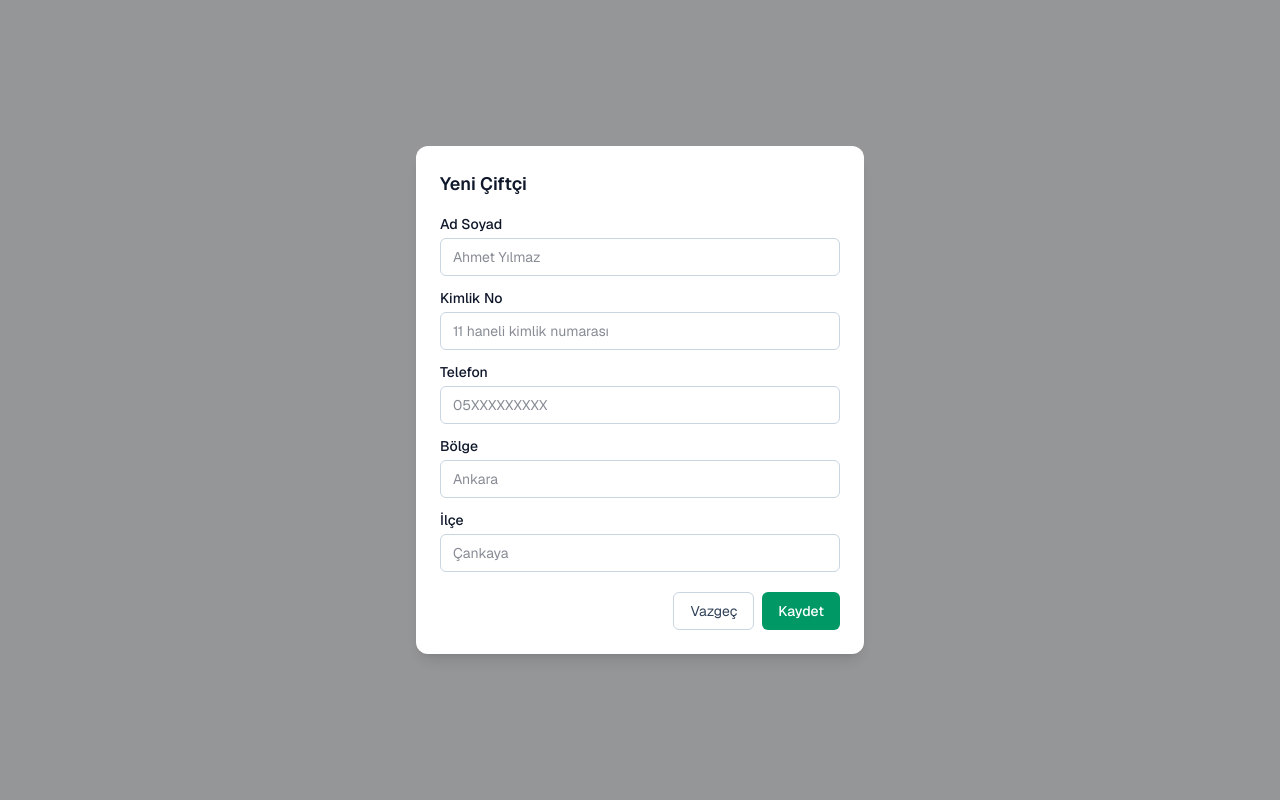
Test: FarmerFormModal › gecersiz telefon icin hata mesaji gosterir
This screenshot has width=1280, height=800.
Type "123" into the field labelled "Telefon" at coordinates (640, 405), box [440, 386, 840, 424]
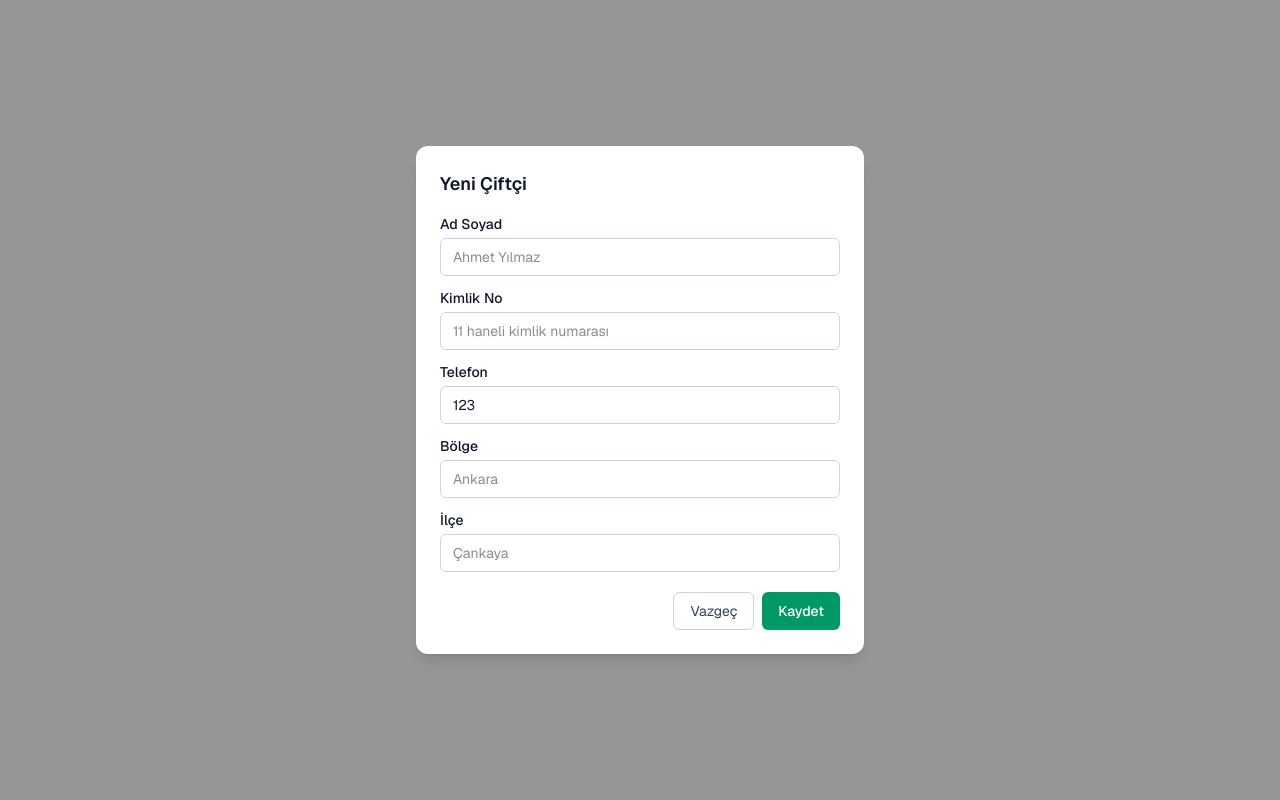
Click the button "Kaydet" at coordinates (801, 611), box [762, 592, 840, 630]
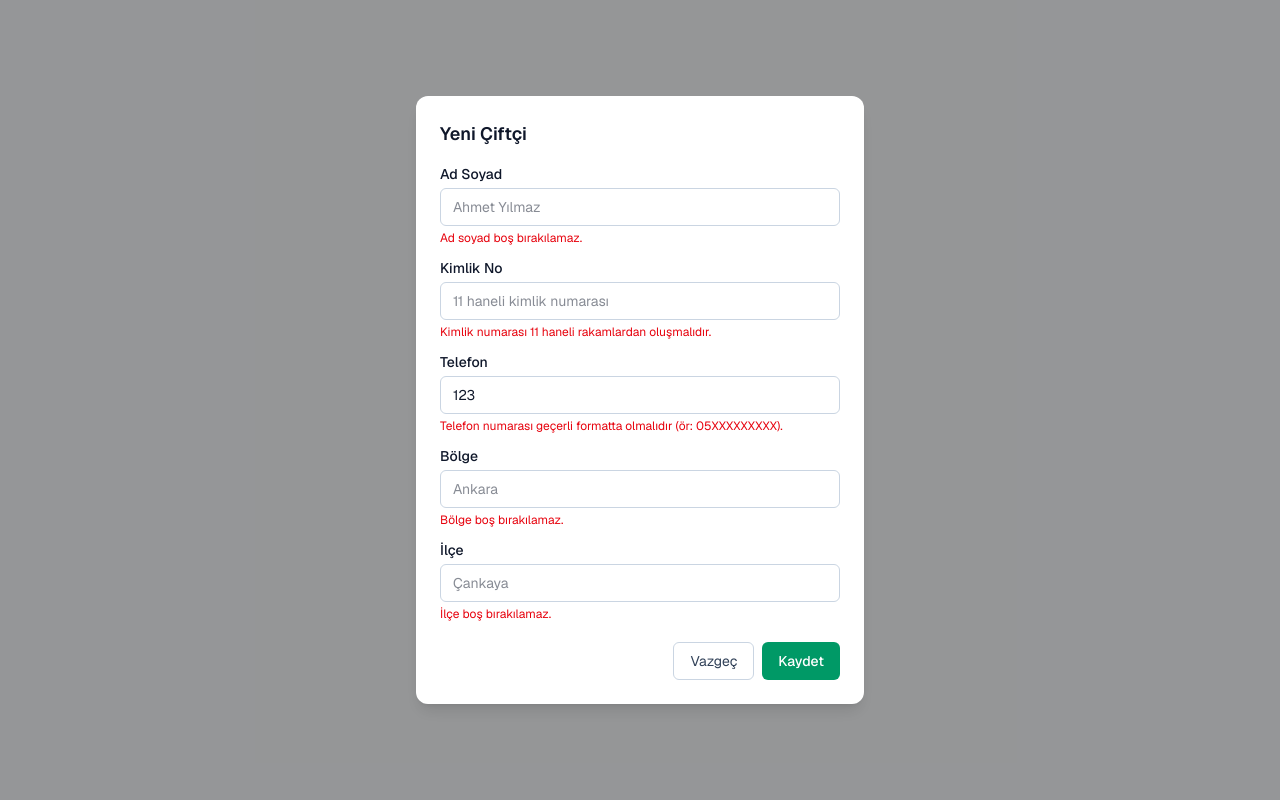
Check: the text "Telefon numarası geçerli formatta olmalıdır" is shown, box [440, 418, 783, 434]
